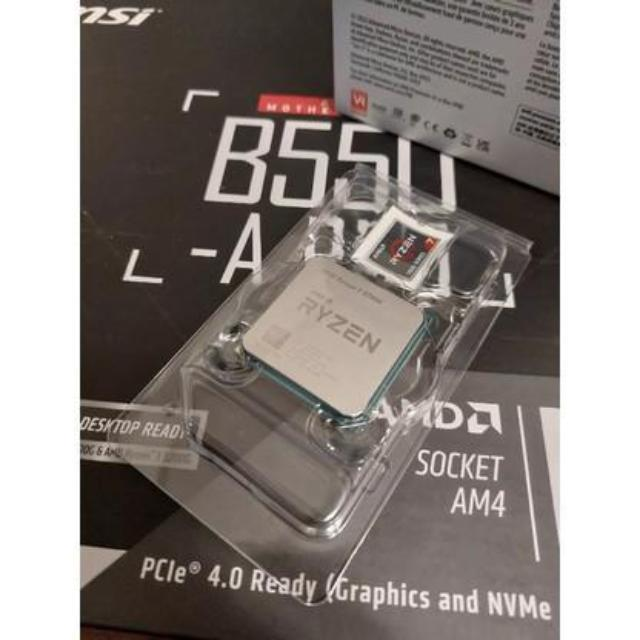CPU: (248, 249, 418, 417)
